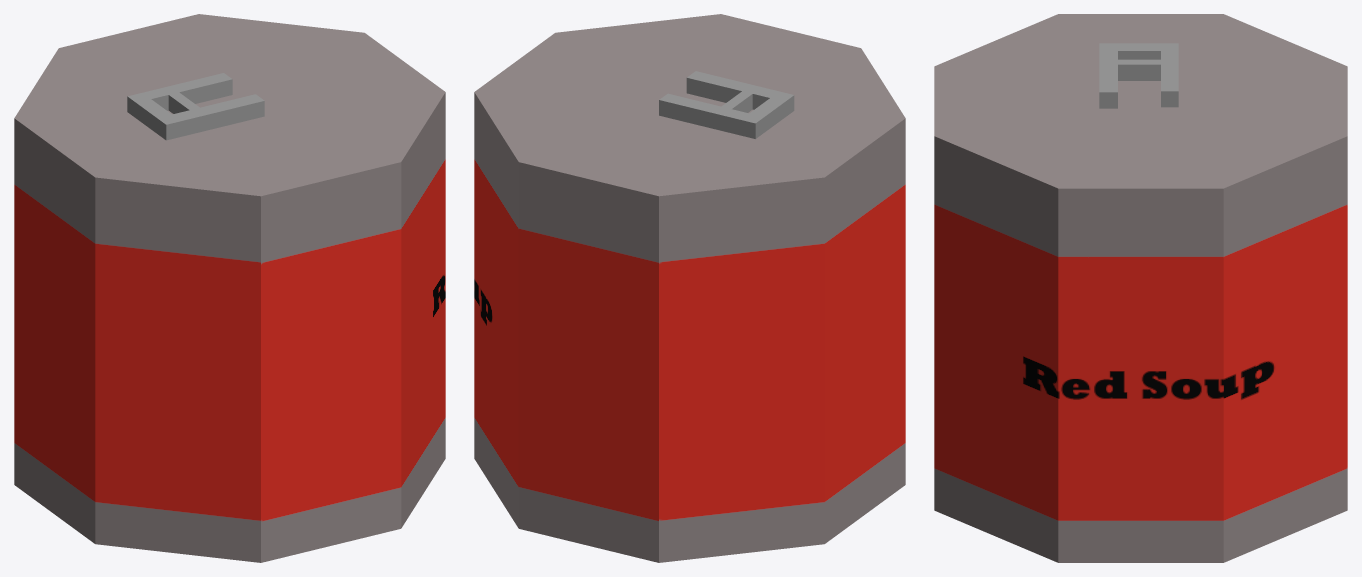
Rendered from soup.fbx.
3 renders of one model, left to right at view 1: azimuth 30°, elevation 25°; view 2: azimuth 150°, elevation 25°; view 3: azimuth 270°, elevation 25°, orthographic. The views are drawn at different scales.
Visible parts, largest first — view 1: pCube1, pCube2; view 2: pCube1, pCube2; view 3: pCube1, pCube2.
Part boxes in pixels (bbox=[...]): pCube1: bbox=[14, 14, 445, 562]; pCube2: bbox=[127, 73, 264, 140]; pCube1: bbox=[474, 14, 905, 562]; pCube2: bbox=[659, 71, 794, 138]; pCube1: bbox=[934, 14, 1347, 562]; pCube2: bbox=[1099, 43, 1178, 108].
Size of the model in its own units: 1 by 1.04 by 1.
